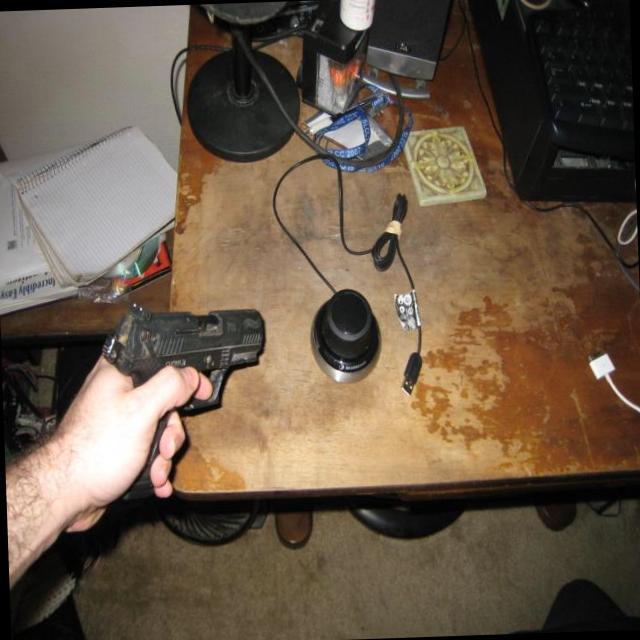Gun: (102, 305, 265, 412)
